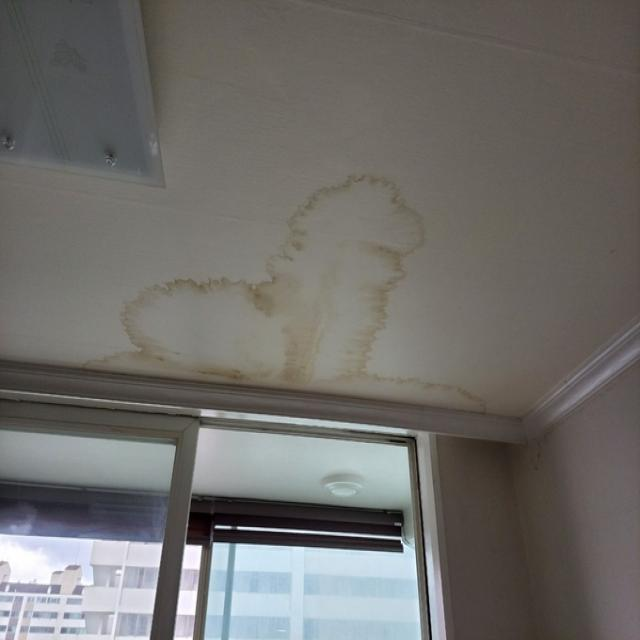leak: (122, 174, 424, 385)
